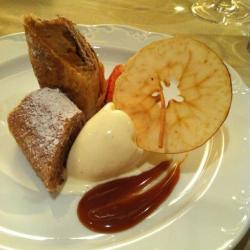icecream: (61, 106, 151, 182)
ketchup: (72, 161, 187, 232)
